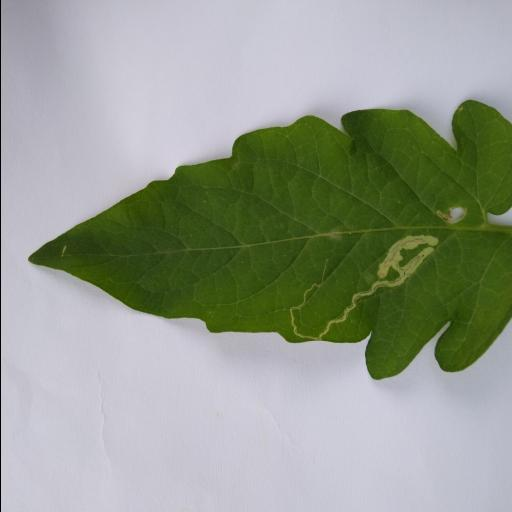Leaf Miner: (28, 98, 512, 384)
